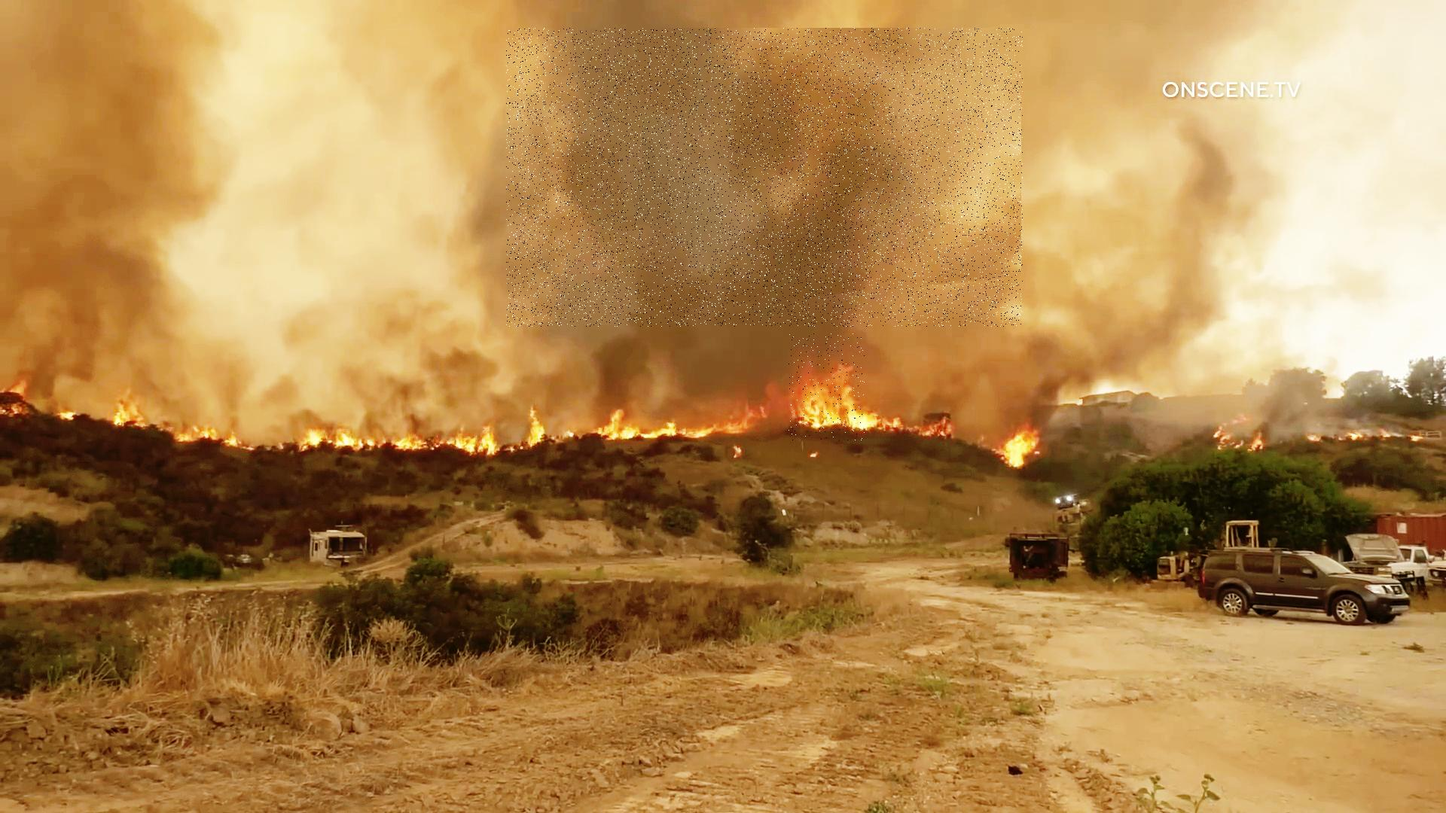fire: (789, 334, 865, 441)
smoke: (507, 28, 1023, 327)
